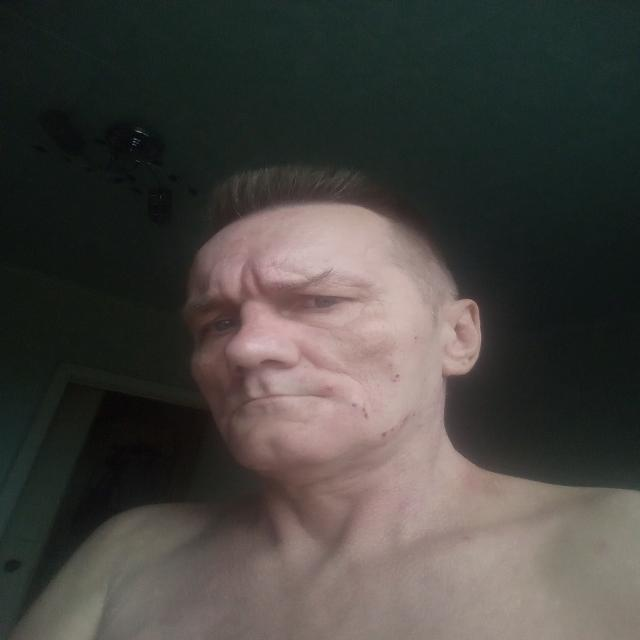acne: (358, 404, 376, 420), (392, 371, 404, 383), (323, 383, 337, 392), (378, 427, 390, 437), (382, 360, 395, 368), (402, 411, 410, 423), (389, 423, 399, 432), (350, 400, 358, 408), (414, 333, 420, 341), (380, 326, 388, 330)
pores: (344, 331, 379, 365)
wrinkle: (218, 262, 268, 300), (356, 371, 388, 405), (308, 324, 354, 344), (312, 360, 358, 380), (280, 414, 320, 430), (360, 296, 390, 315), (286, 263, 310, 280)
